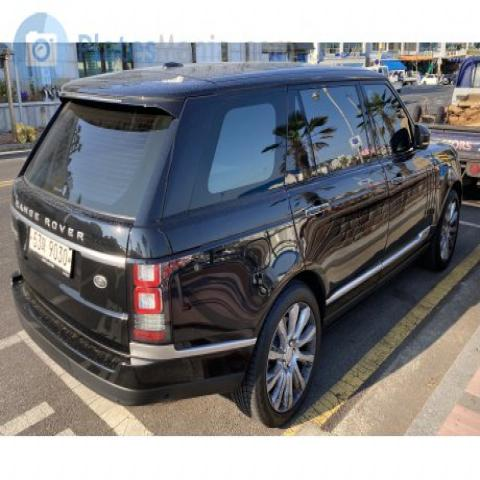LP: (19, 213, 84, 280)
